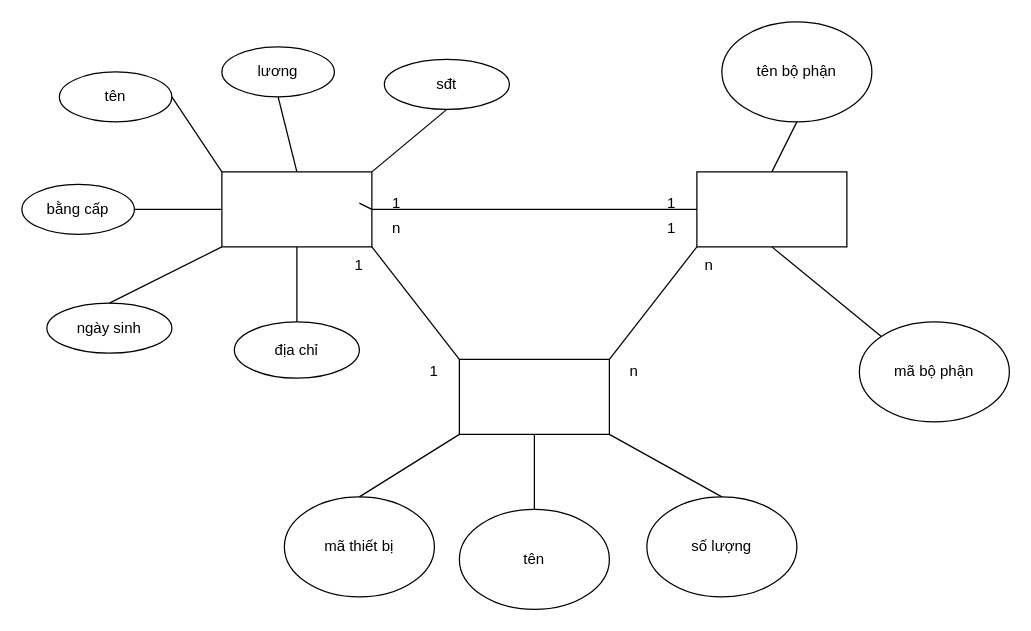
Some shapes in this 1031 by 631 pixel diagram are drawn without their labels. Here are the shapes that lost their labels. From the top down, the centre of each, then its label:
At pixel 296 209: "Nhân viên".
At pixel 771 209: "Bộ phận".
At pixel 533 396: "Thiết bị".
